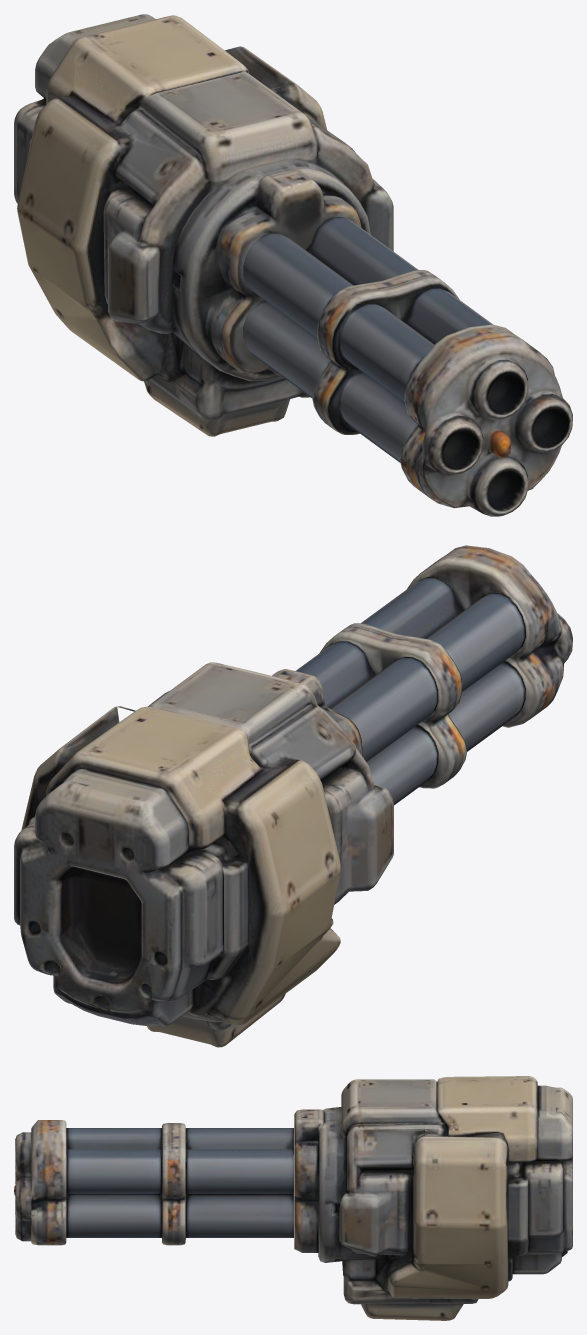
File: 06_Rotary_Cannon.glb
3 views of the same model, one above another, from view 1: azimuth 30°, elevation 25°; view 2: azimuth 150°, elevation 25°; view 3: azimuth 270°, elevation 25° (orthographic). The views are drawn at different scales.
Parts seen in each view (by area): view 1: 06_Rotary_Cannon; view 2: 06_Rotary_Cannon; view 3: 06_Rotary_Cannon.
Boxes of the visible parts, x1,y1,x2,y2 form: 06_Rotary_Cannon: (14, 14, 572, 516); 06_Rotary_Cannon: (14, 545, 572, 1047); 06_Rotary_Cannon: (14, 1076, 572, 1320).
Bounding box in the file's own units: 0.3765 × 0.4302 × 0.9995.
1 material, 1 textured.
